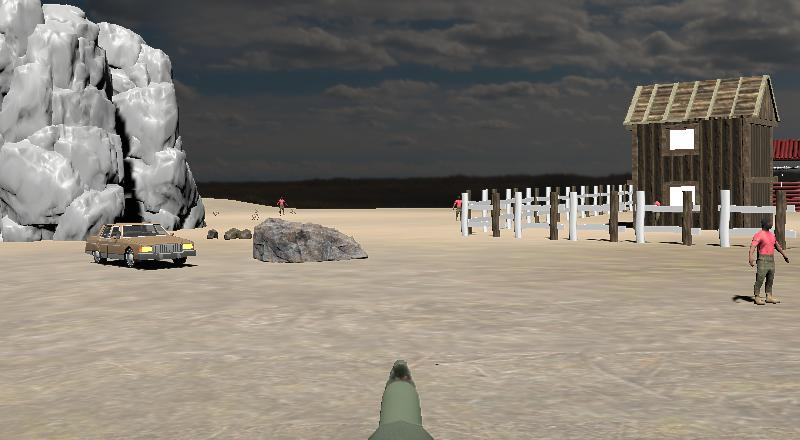Human: (746, 214, 791, 308), (451, 192, 465, 225)
car: (81, 219, 199, 271)
